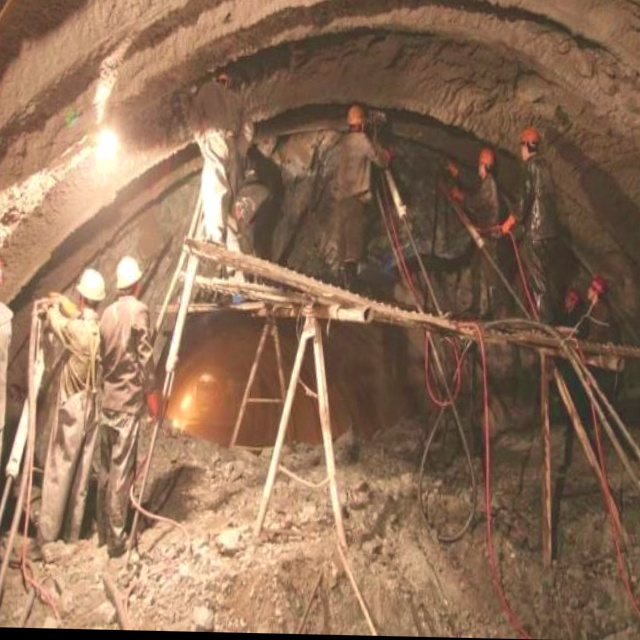Con_Casco: (113, 252, 144, 300), (0, 250, 3, 294)
